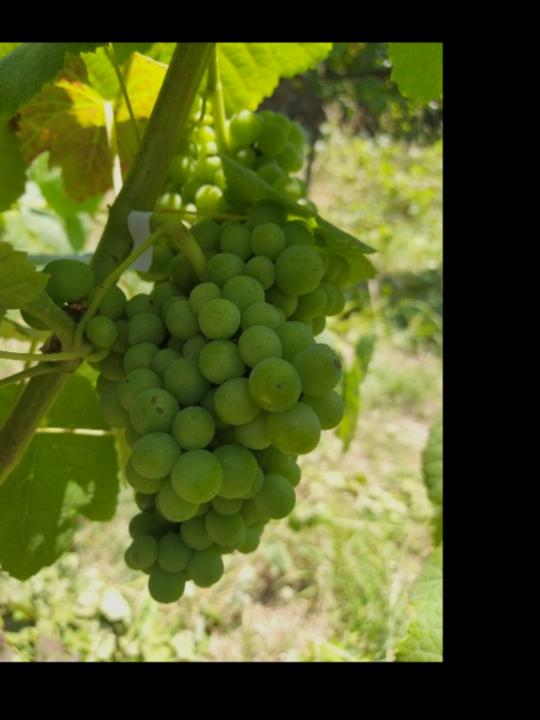grape: (20, 199, 346, 606)
